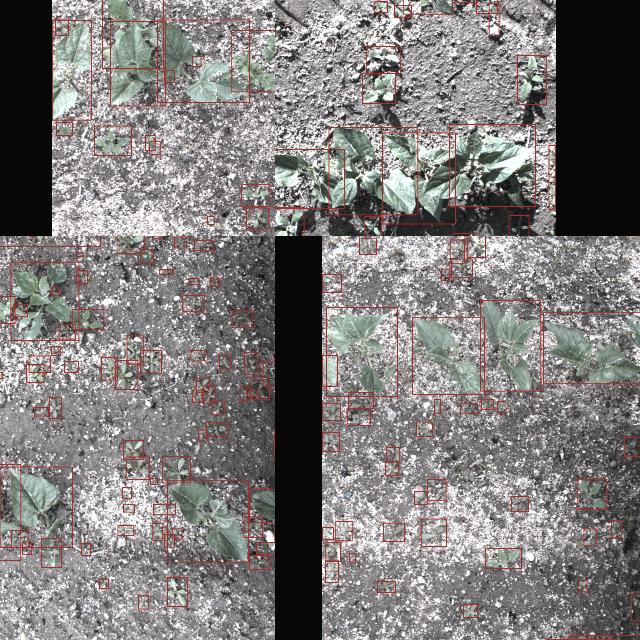crop: (328, 126, 418, 214), (157, 19, 249, 101), (449, 124, 535, 206), (543, 312, 640, 383), (382, 132, 456, 224), (166, 479, 248, 561), (326, 306, 396, 396), (0, 465, 71, 546), (412, 316, 484, 394), (480, 300, 540, 390), (110, 20, 164, 106), (275, 148, 343, 208), (51, 20, 90, 120), (0, 464, 20, 560), (249, 488, 275, 521), (322, 354, 336, 386), (364, 216, 380, 236)
weed: (10, 261, 78, 339), (101, 0, 162, 68), (231, 29, 275, 90), (516, 54, 546, 104), (93, 125, 131, 155), (361, 72, 395, 102), (576, 479, 606, 509), (365, 46, 399, 72), (275, 206, 303, 236), (162, 456, 190, 482), (420, 518, 446, 546), (485, 548, 521, 568), (114, 359, 138, 388), (240, 184, 270, 206), (166, 576, 188, 606), (71, 309, 103, 329), (402, 0, 451, 13), (40, 538, 60, 566), (125, 456, 149, 478), (126, 335, 144, 363), (246, 206, 268, 228), (116, 236, 143, 253), (509, 214, 529, 236), (140, 350, 160, 372), (426, 478, 446, 500), (451, 258, 472, 278), (250, 379, 270, 399), (549, 144, 555, 210), (182, 294, 204, 312), (28, 354, 50, 372), (382, 522, 404, 540), (0, 295, 14, 323), (348, 392, 372, 408), (123, 439, 143, 458), (101, 356, 117, 379), (346, 408, 369, 424), (232, 309, 252, 327), (244, 516, 262, 536), (467, 236, 485, 256), (322, 273, 341, 291), (489, 2, 499, 36), (10, 529, 28, 547), (25, 364, 43, 382), (321, 402, 339, 420), (624, 436, 640, 456), (335, 520, 351, 540), (324, 541, 340, 561), (244, 352, 258, 374), (206, 422, 228, 436), (324, 560, 338, 582), (450, 240, 464, 262), (322, 432, 338, 451), (263, 360, 275, 385), (358, 237, 376, 253), (249, 555, 269, 569), (476, 0, 497, 13), (510, 496, 528, 510), (631, 593, 640, 620), (48, 397, 60, 417), (256, 542, 275, 554), (54, 18, 68, 34), (58, 324, 74, 338), (415, 422, 431, 436), (385, 446, 399, 462), (153, 504, 175, 514), (203, 385, 215, 403), (376, 580, 394, 592), (394, 5, 411, 17), (384, 461, 398, 475), (55, 122, 71, 134), (584, 528, 596, 544), (194, 240, 212, 250), (152, 522, 162, 540), (459, 403, 476, 413), (210, 401, 223, 414), (219, 354, 231, 368), (196, 378, 208, 392), (13, 304, 27, 316), (140, 248, 152, 262), (463, 604, 477, 616), (568, 633, 591, 640), (144, 134, 154, 150), (117, 525, 133, 535), (611, 520, 621, 536), (414, 491, 426, 504), (64, 361, 78, 372), (374, 0, 386, 12), (174, 236, 186, 248), (149, 140, 159, 154), (190, 350, 204, 360), (34, 406, 48, 416), (163, 534, 174, 546), (164, 70, 174, 82), (138, 596, 148, 608), (80, 543, 90, 555), (76, 270, 86, 282), (192, 389, 202, 401), (480, 399, 492, 409), (440, 268, 450, 280), (322, 527, 332, 539), (121, 487, 131, 498), (496, 401, 506, 412), (22, 541, 31, 553), (50, 345, 60, 355), (172, 528, 182, 538), (240, 386, 247, 400), (122, 504, 134, 512), (433, 398, 439, 414), (99, 578, 108, 588), (159, 268, 173, 274), (192, 56, 200, 66), (210, 277, 220, 285), (198, 430, 206, 440), (579, 580, 587, 590), (206, 216, 214, 224), (188, 278, 198, 284), (249, 390, 259, 396), (349, 553, 355, 563), (150, 477, 158, 483), (52, 287, 58, 295), (76, 252, 82, 256), (152, 236, 161, 238)
